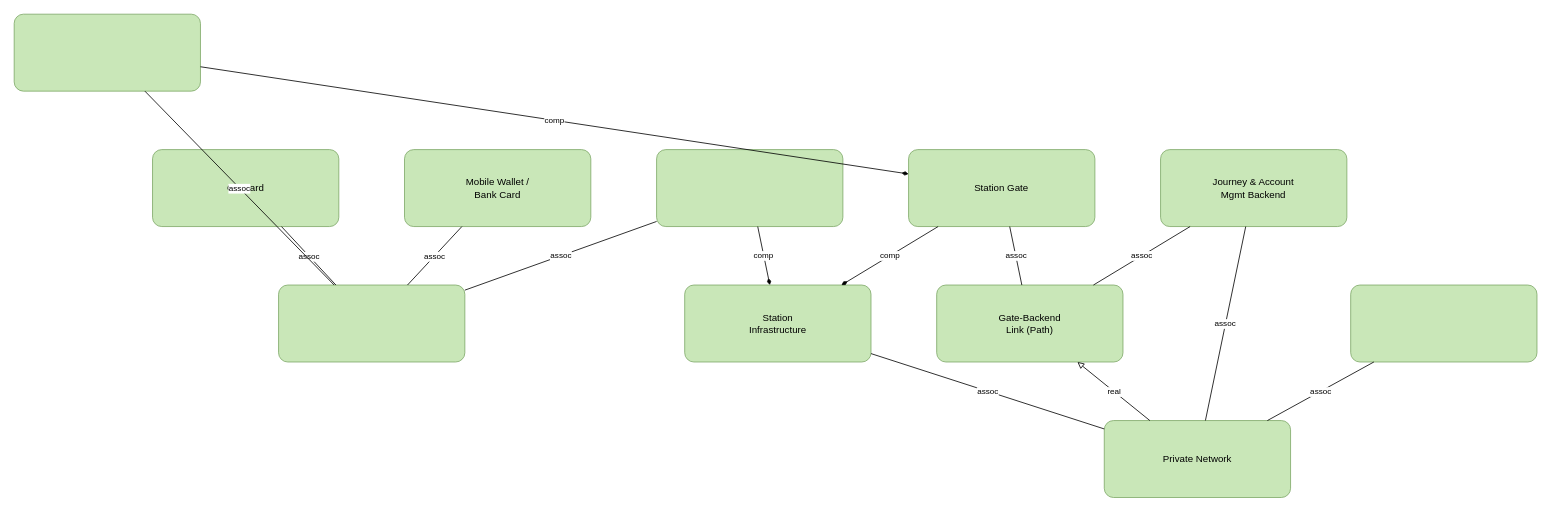
This 1551x512 diagram has some shape labels left out. The centre of each missing label's shape, as x and y in pixels:
"Application Server" belongs at pixel 1443 323.
"NFC Handshake (Path)" belongs at pixel 371 323.
"NFC Reader (embedded)" belongs at pixel 106 52.
"Platform NFC Reader" belongs at pixel 749 188.
